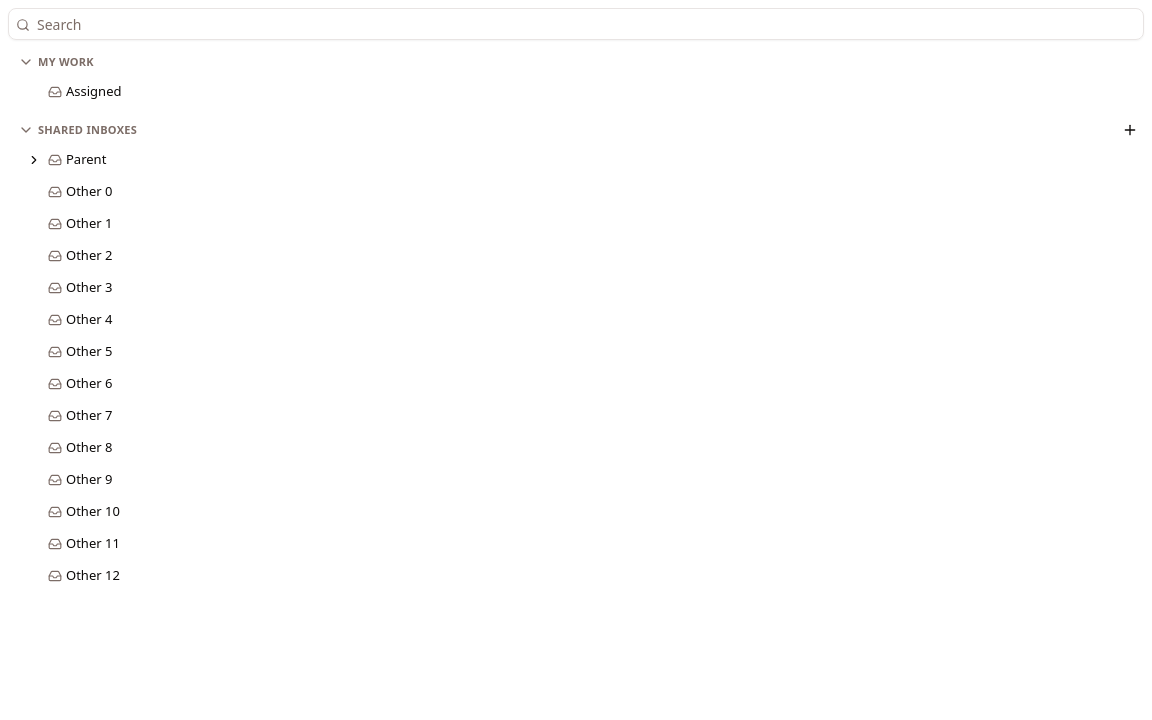
Test case: SidebarTree › keeps matching ancestor paths visible during search without changing collapse preferences
Type "Needle" into the field named "Search sidebar" at (576, 24), box [8, 8, 1144, 40]
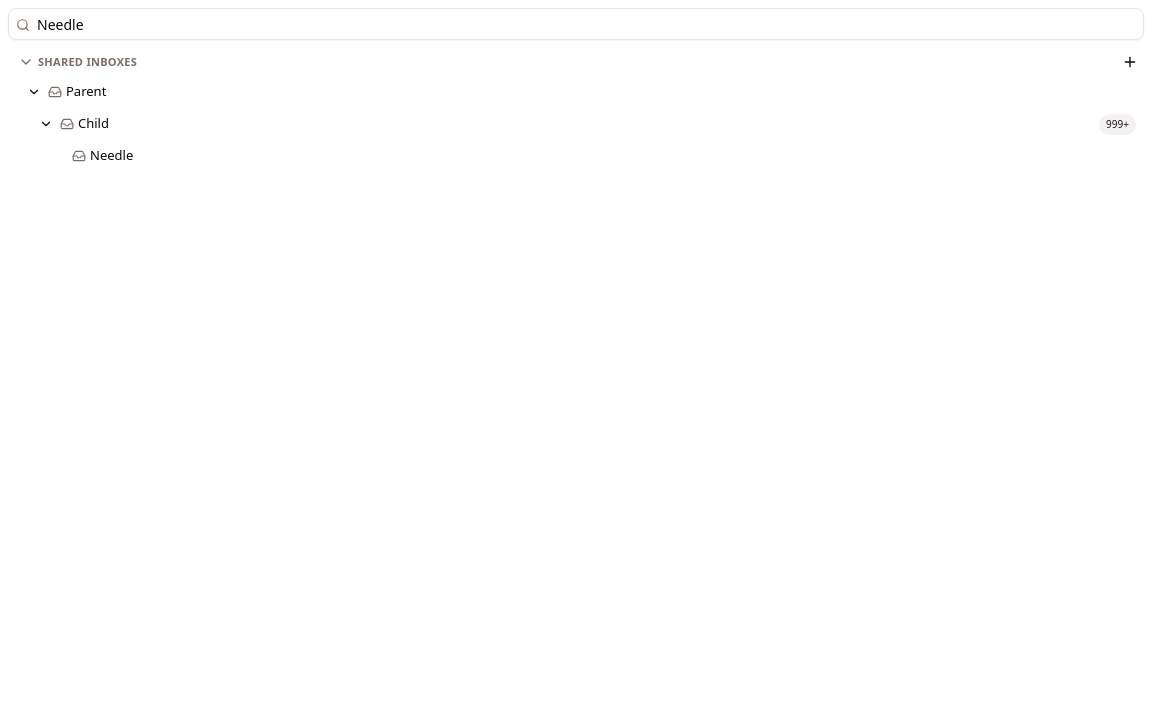
Result: the list item "Parent" is expanded at [27, 82, 106, 100]
Result: the list item "Needle" is shown at [72, 146, 133, 164]
Clear the field named "Search sidebar" at (576, 24), box [8, 8, 1144, 40]
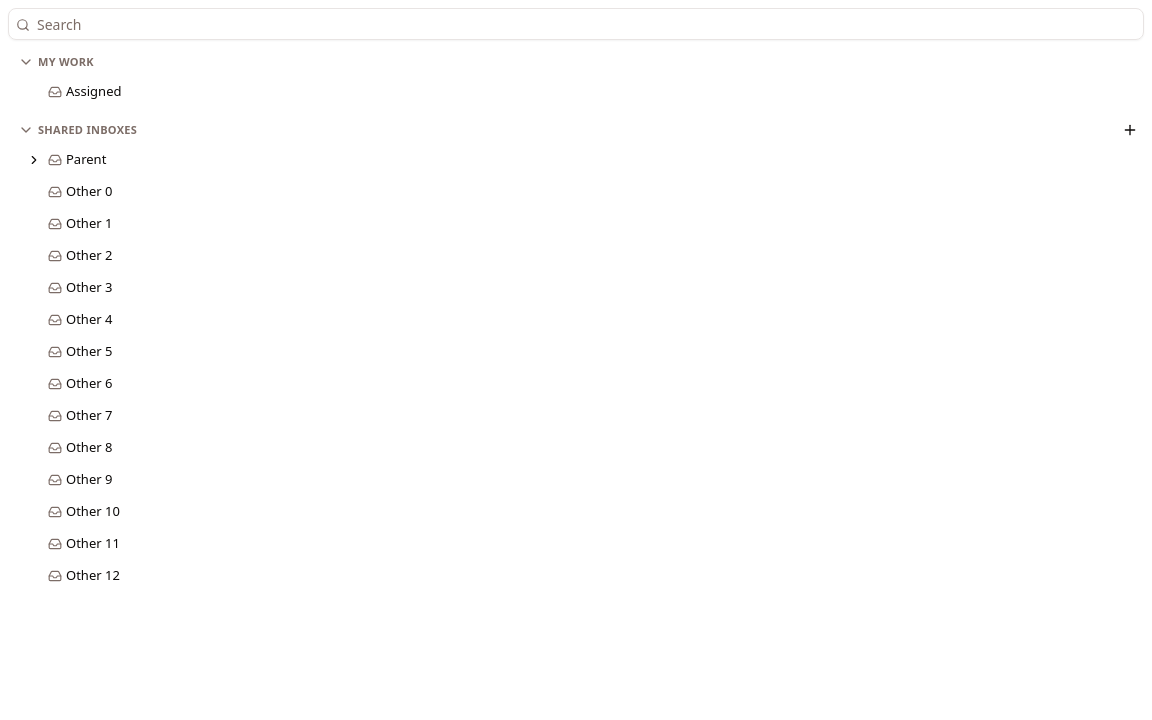
Result: the text "Child" is gone
